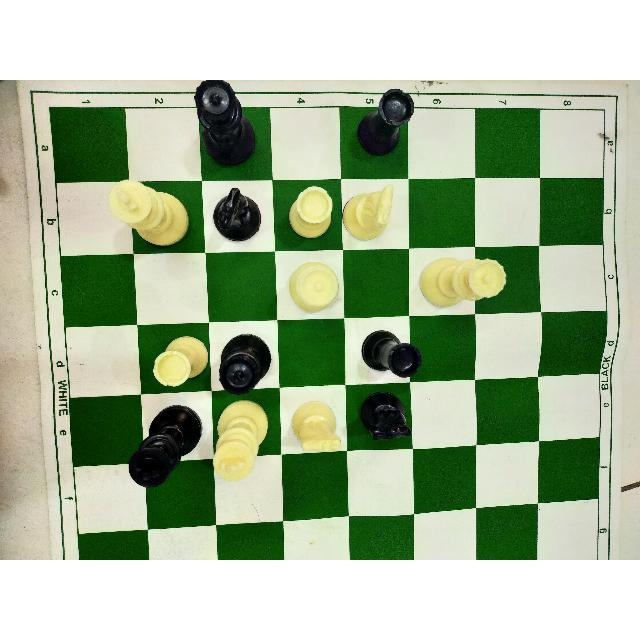black-king: (125, 402, 204, 490)
black-knight: (209, 182, 265, 245), (356, 390, 412, 444)
black-queen: (191, 80, 259, 170), (217, 330, 273, 396)
black-rook: (355, 86, 417, 159), (359, 326, 425, 380)
white-king: (108, 176, 194, 251), (210, 397, 277, 485)
white-knight: (290, 398, 347, 459), (340, 184, 395, 246)
white-queen: (417, 253, 510, 310), (287, 257, 339, 312)
white-rook: (147, 331, 210, 391), (286, 180, 338, 244)
